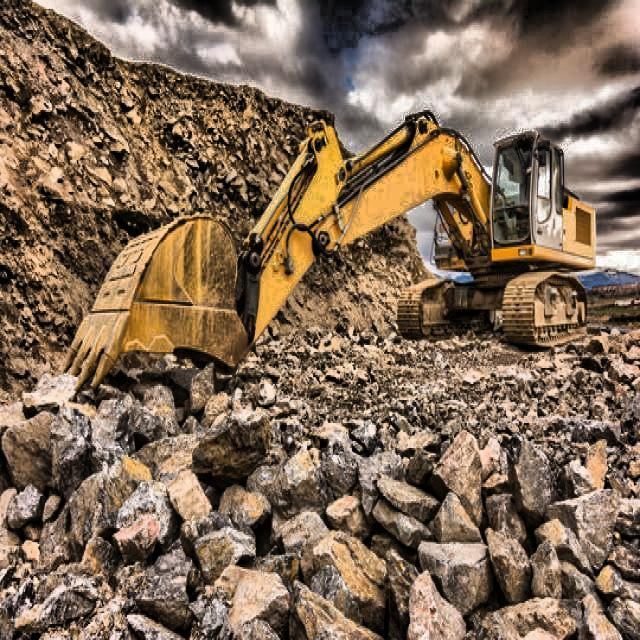excavator: (62, 109, 598, 394)
